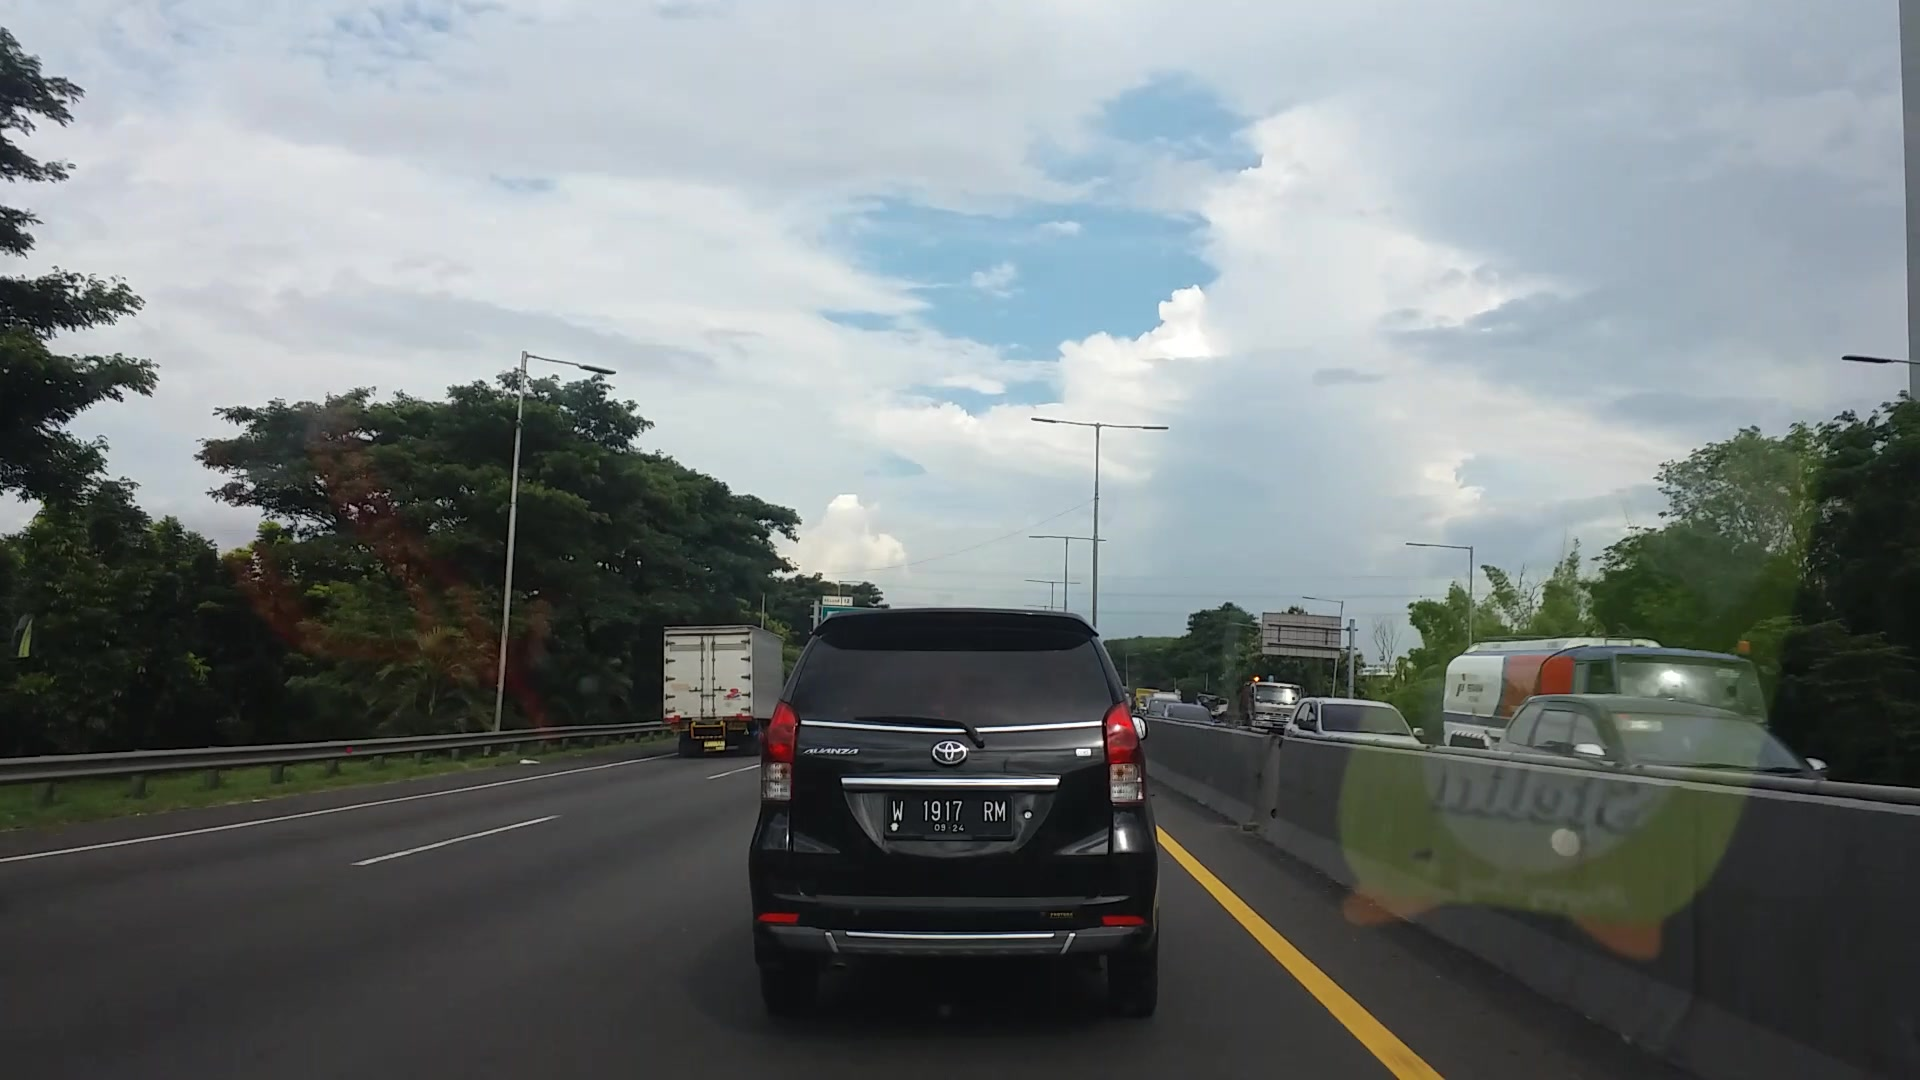plate_positive: (884, 791, 1014, 843)
